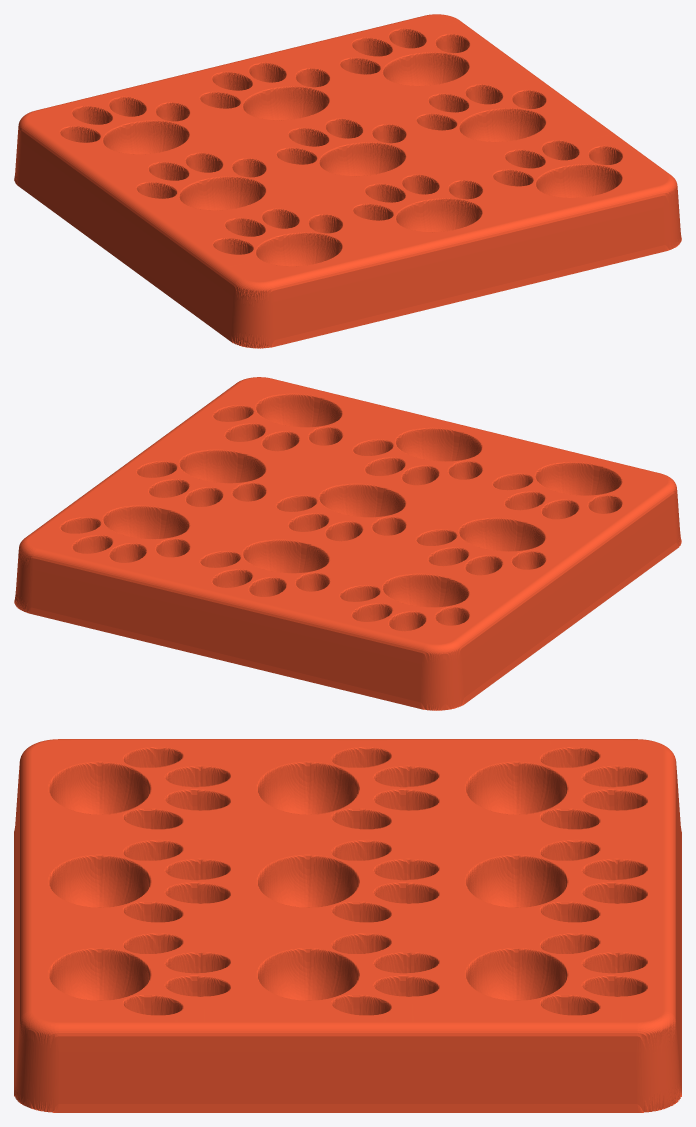
Rendered from mold.glb.
3 views of the same model, one above another, from view 1: azimuth 30°, elevation 25°; view 2: azimuth 150°, elevation 25°; view 3: azimuth 270°, elevation 25° (orthographic). The views are drawn at different scales.
Visible parts, largest first — view 1: geometry_0; view 2: geometry_0; view 3: geometry_0.
Boxes of the visible parts, x1,y1,x2,y2 form: geometry_0: [14, 14, 681, 348]; geometry_0: [14, 377, 681, 710]; geometry_0: [14, 739, 681, 1112].
Bounding box in the file's own units: 0.1402 × 0.0182 × 0.1331.
